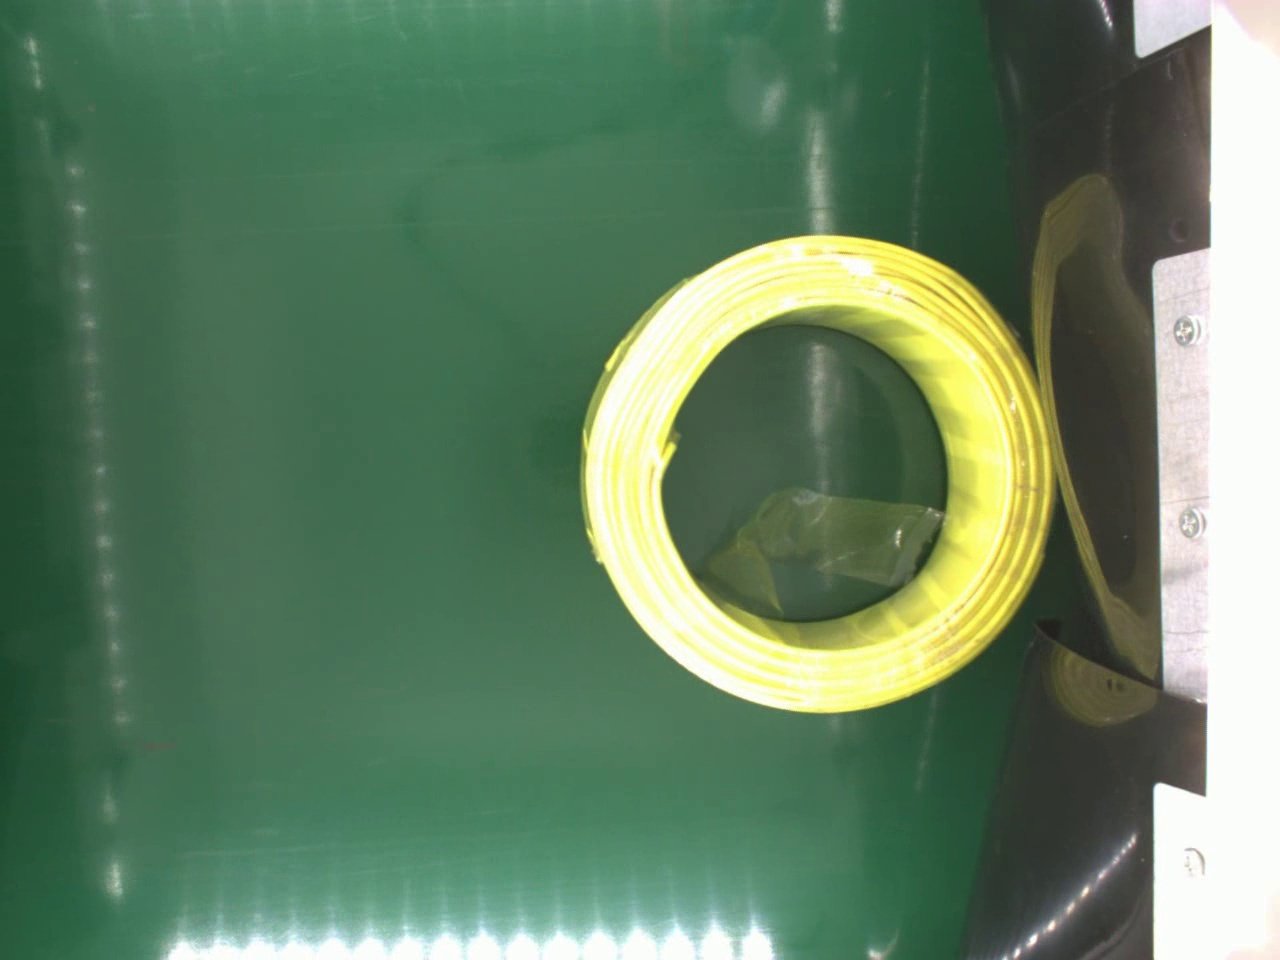yellow: (578, 228, 1055, 723)
